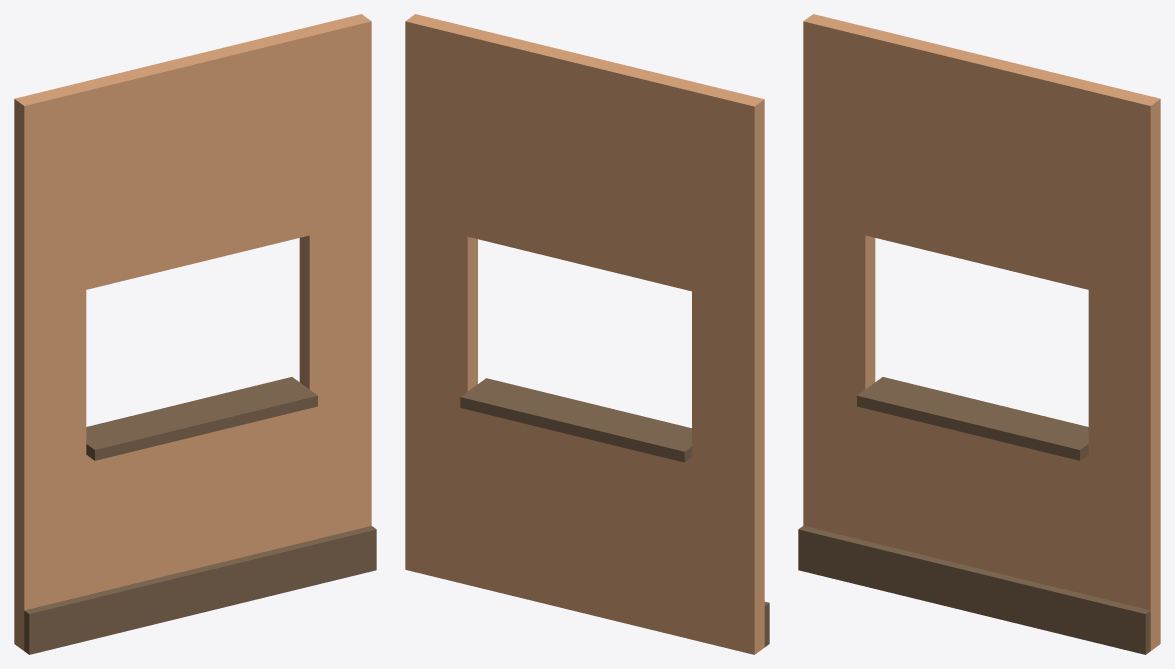
The model's file is Mesh_WallBaseboard_D3.fbx.
3 renders of one model, left to right at view 1: azimuth 30°, elevation 25°; view 2: azimuth 150°, elevation 25°; view 3: azimuth 330°, elevation 25°, orthographic.
Visible parts, largest first — view 1: Mesh_WallBaseboard_D3; view 2: Mesh_WallBaseboard_D3; view 3: Mesh_WallBaseboard_D3.
Part boxes in pixels (<box>): Mesh_WallBaseboard_D3: <box>14,14,376,654</box>; Mesh_WallBaseboard_D3: <box>405,14,769,654</box>; Mesh_WallBaseboard_D3: <box>798,14,1160,654</box>.
Size of the model in its own units: 2 by 3 by 0.2574.
